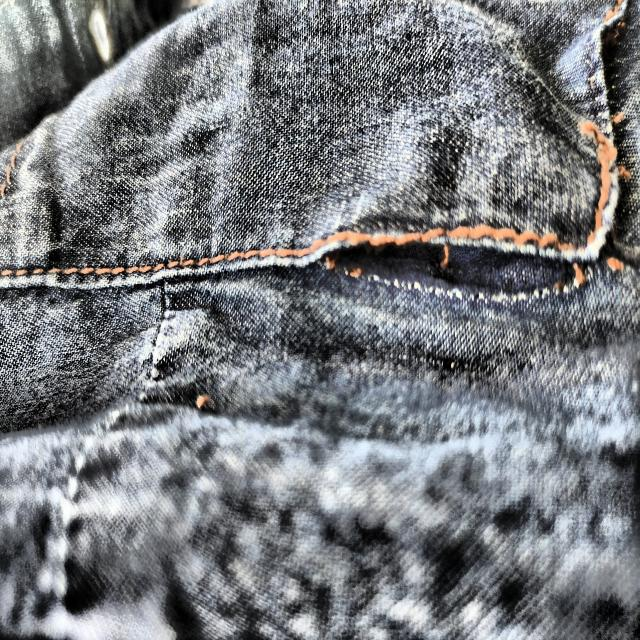seam: (315, 196, 606, 310)
